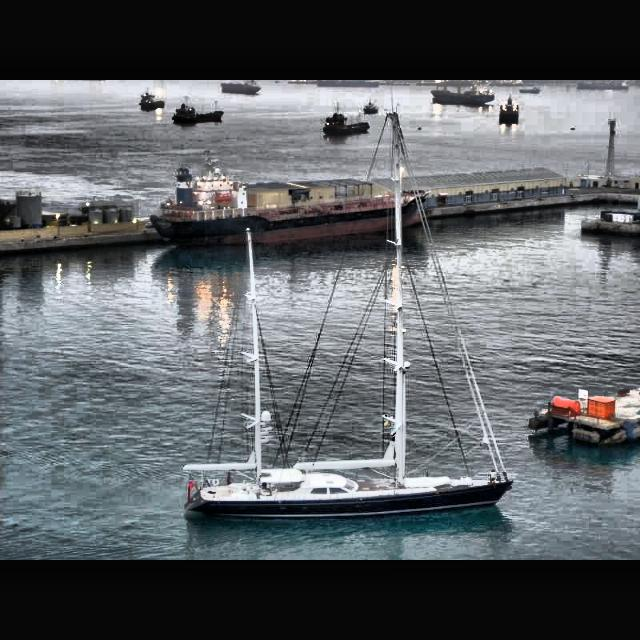sailing_vessel: (183, 106, 515, 522)
